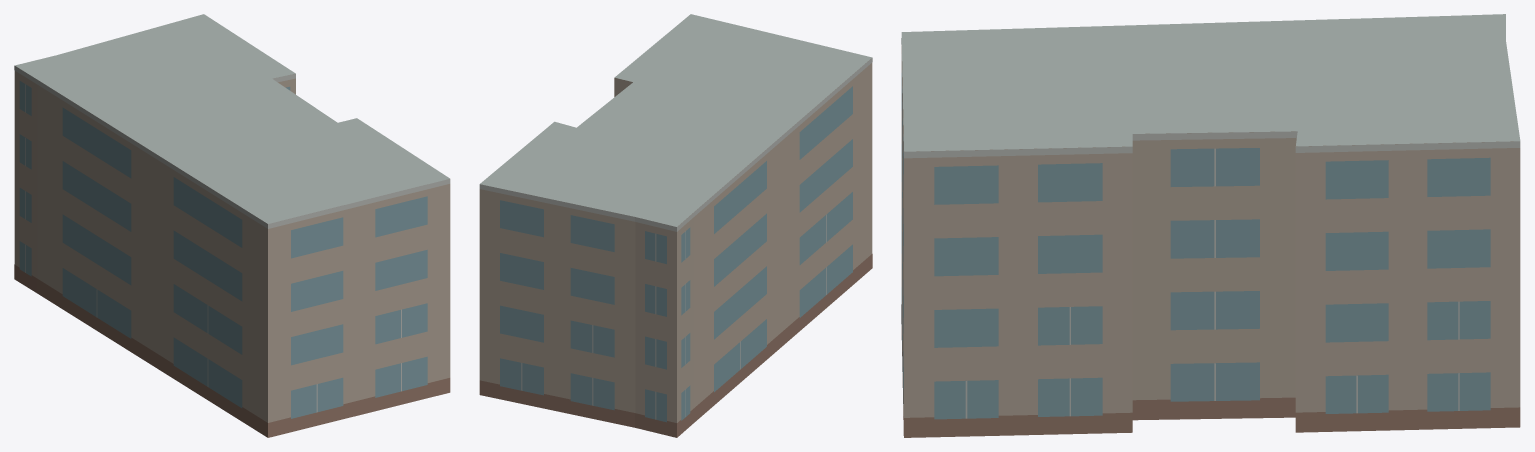
File: survey-upis-32758756.glb
3 views of the same model, side by side, from view 1: azimuth 30°, elevation 25°; view 2: azimuth 150°, elevation 25°; view 3: azimuth 270°, elevation 25° (orthographic). The views are drawn at different scales.
Parts seen in each view (by area): view 1: survey-upis-32758756.tmp; view 2: survey-upis-32758756.tmp; view 3: survey-upis-32758756.tmp.
Part boxes in pixels (box(x1,y1,x2,y2)): survey-upis-32758756.tmp: box(14, 14, 450, 437); survey-upis-32758756.tmp: box(479, 14, 872, 437); survey-upis-32758756.tmp: box(901, 14, 1520, 437).
Size of the model in its own units: 10.9 by 10.55 by 20.69.
